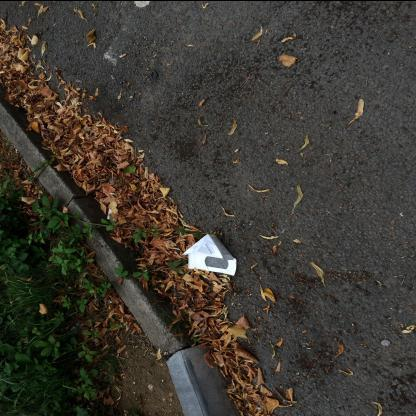karton: (182, 234, 238, 276)
